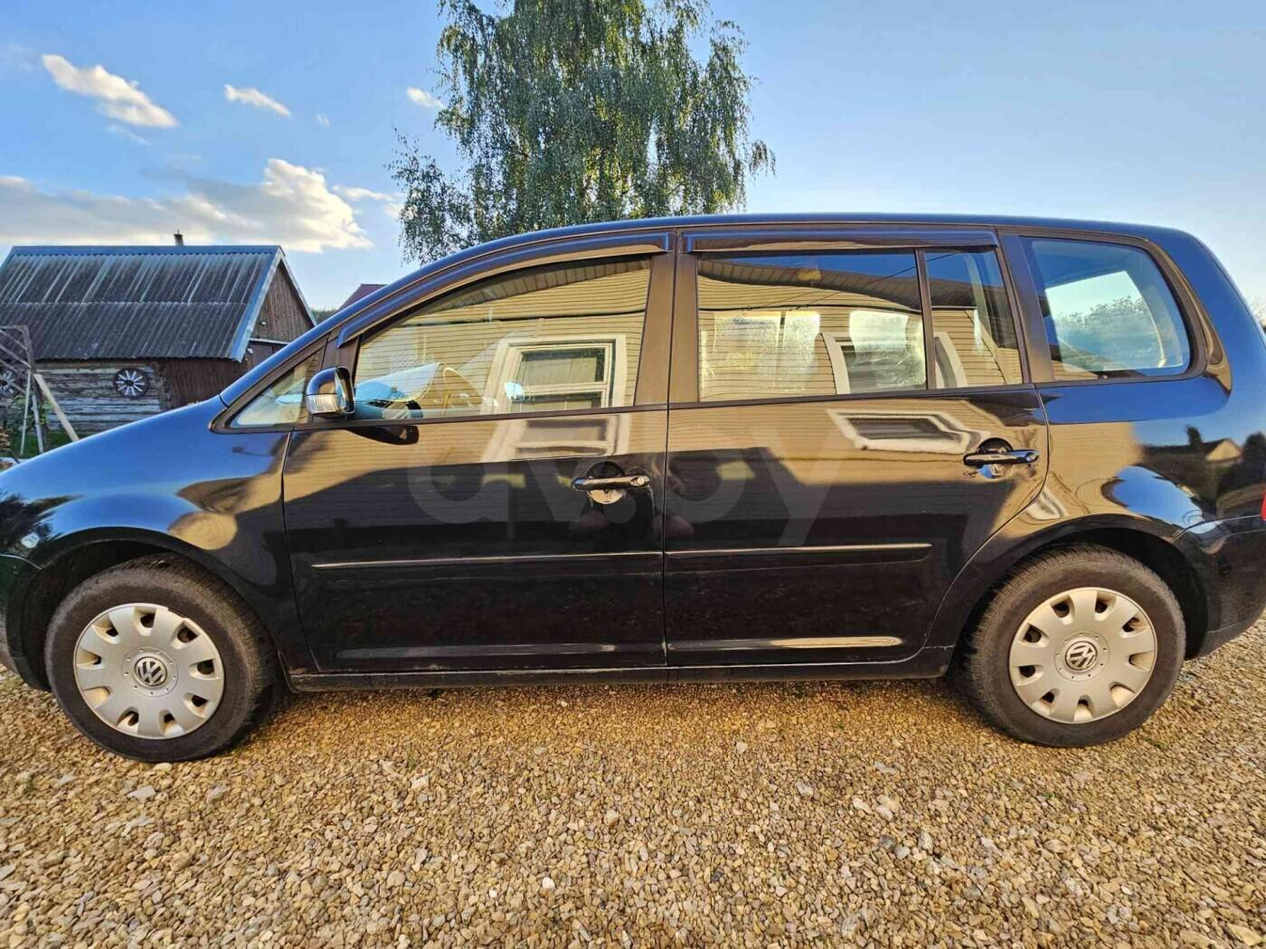Touran_2003-2006: (0, 208, 1266, 763)
